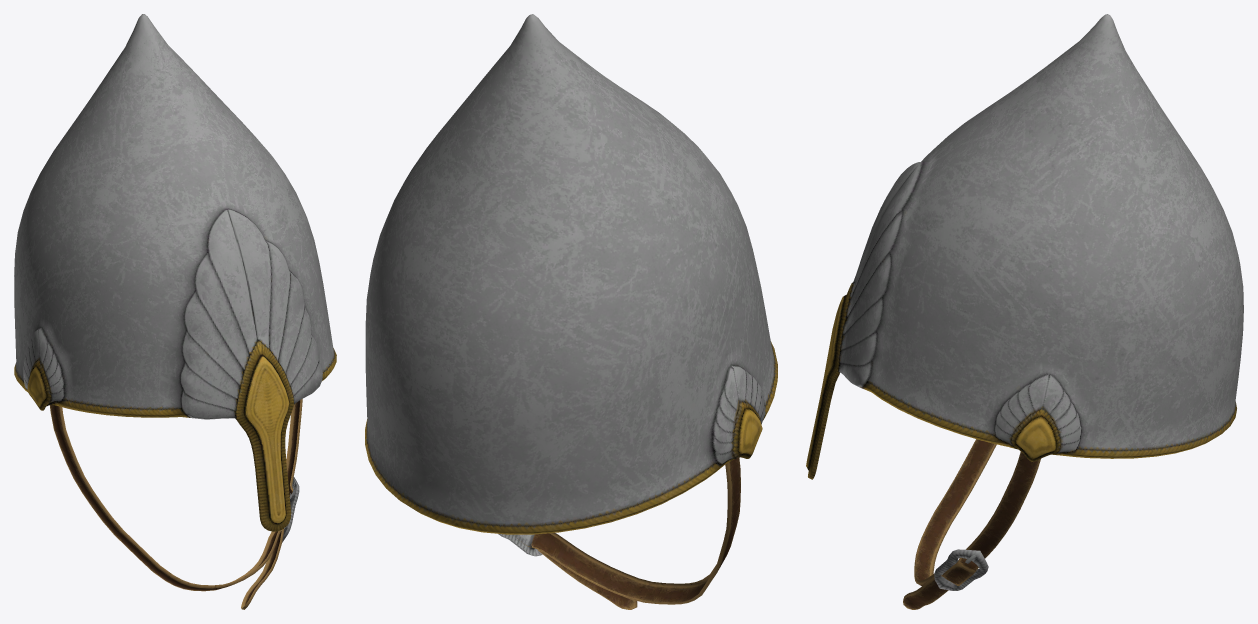
The model's file is pelargirmarine_helmet_5_b.fbx.
3 renders of one model, left to right at view 1: azimuth 30°, elevation 25°; view 2: azimuth 150°, elevation 25°; view 3: azimuth 270°, elevation 25°, orthographic. The views are drawn at different scales.
Visible parts, largest first — view 1: pelargirmarine_helmet_5_b.0, pelargirmarine_helmet_5_b.1; view 2: pelargirmarine_helmet_5_b.0, pelargirmarine_helmet_5_b.1; view 3: pelargirmarine_helmet_5_b.0, pelargirmarine_helmet_5_b.1.
Boxes of the visible parts, x1=… form: pelargirmarine_helmet_5_b.0: x1=14, y1=14, x2=336, y2=531; pelargirmarine_helmet_5_b.1: x1=49, y1=399, x2=302, y2=609; pelargirmarine_helmet_5_b.0: x1=365, y1=14, x2=777, y2=534; pelargirmarine_helmet_5_b.1: x1=498, y1=457, x2=740, y2=609; pelargirmarine_helmet_5_b.0: x1=806, y1=14, x2=1243, y2=479; pelargirmarine_helmet_5_b.1: x1=903, y1=439, x2=1040, y2=609.
Size of the model in its own units: 0.2202 by 0.2701 by 0.4008.
2 materials, 2 textured.
